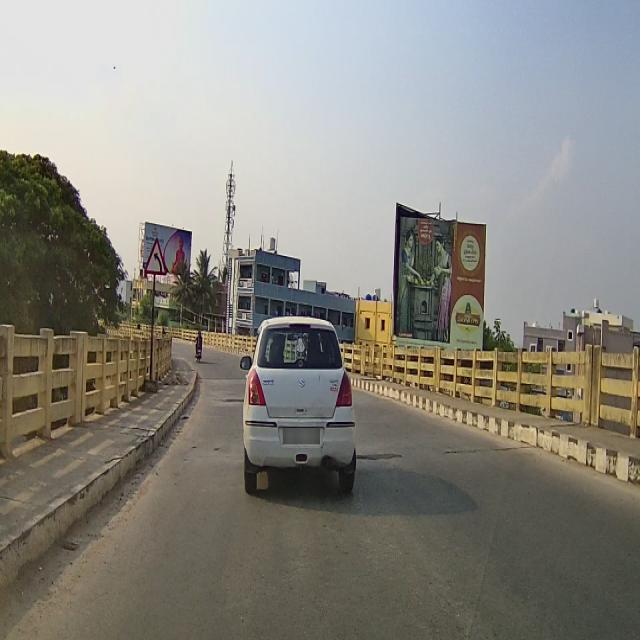car ahead at: (238, 314, 358, 508)
sign board ahead at: (142, 236, 170, 284)
